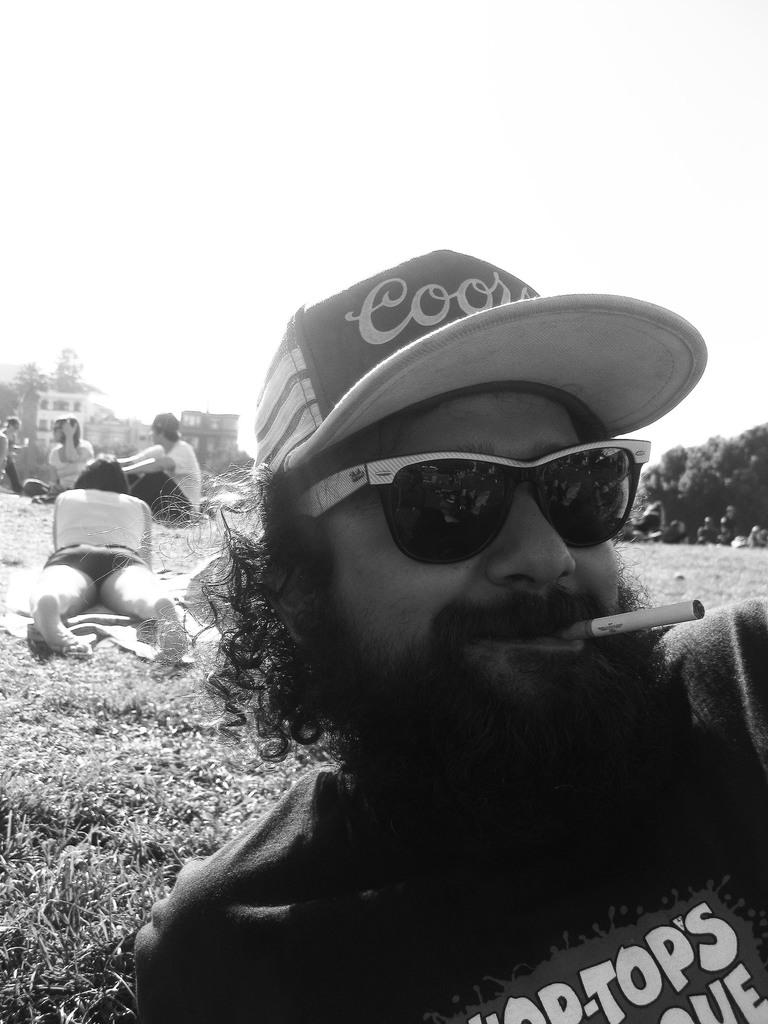Hat: (252, 247, 704, 481), (140, 409, 182, 434)
